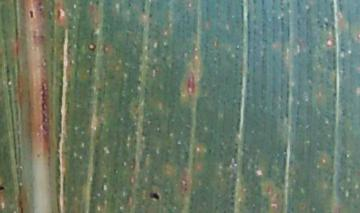tarspot: (150, 190, 162, 202), (29, 9, 37, 21), (1, 182, 5, 194)
